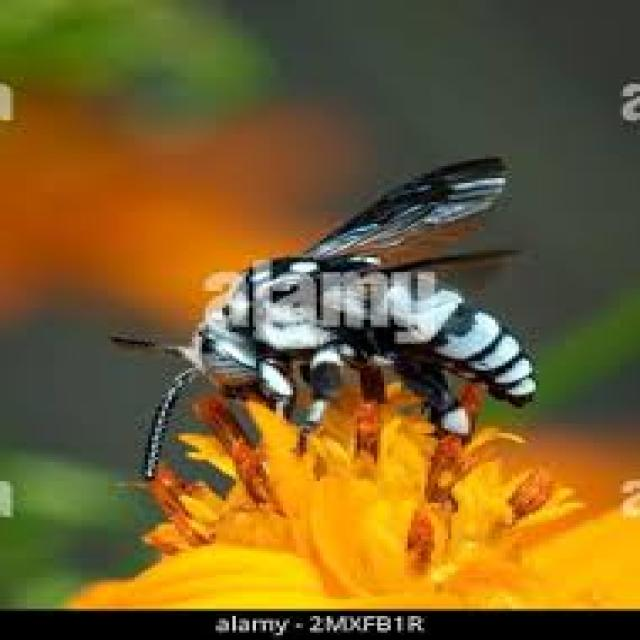Thyreus: (103, 144, 555, 468)
